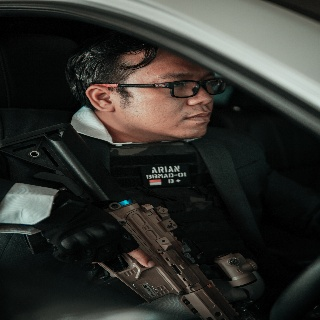rifle: (2, 121, 272, 320)
